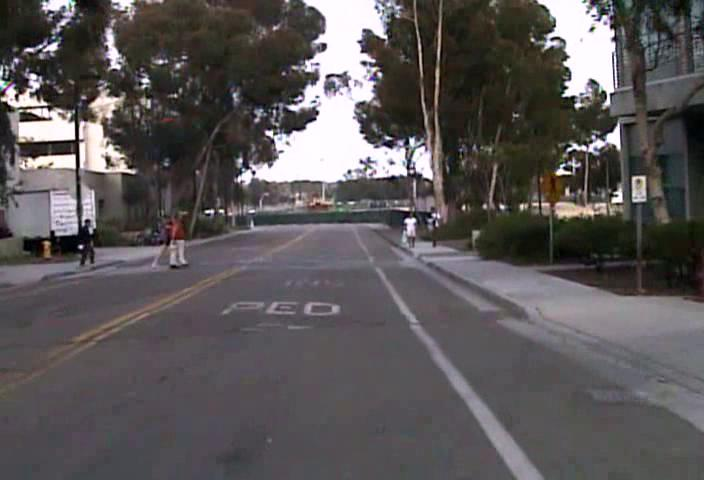pedestrianCrossing: (537, 168, 566, 205)
